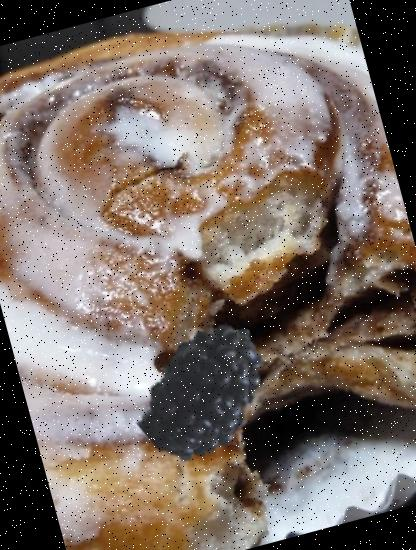Mulberry: (117, 304, 297, 484)
